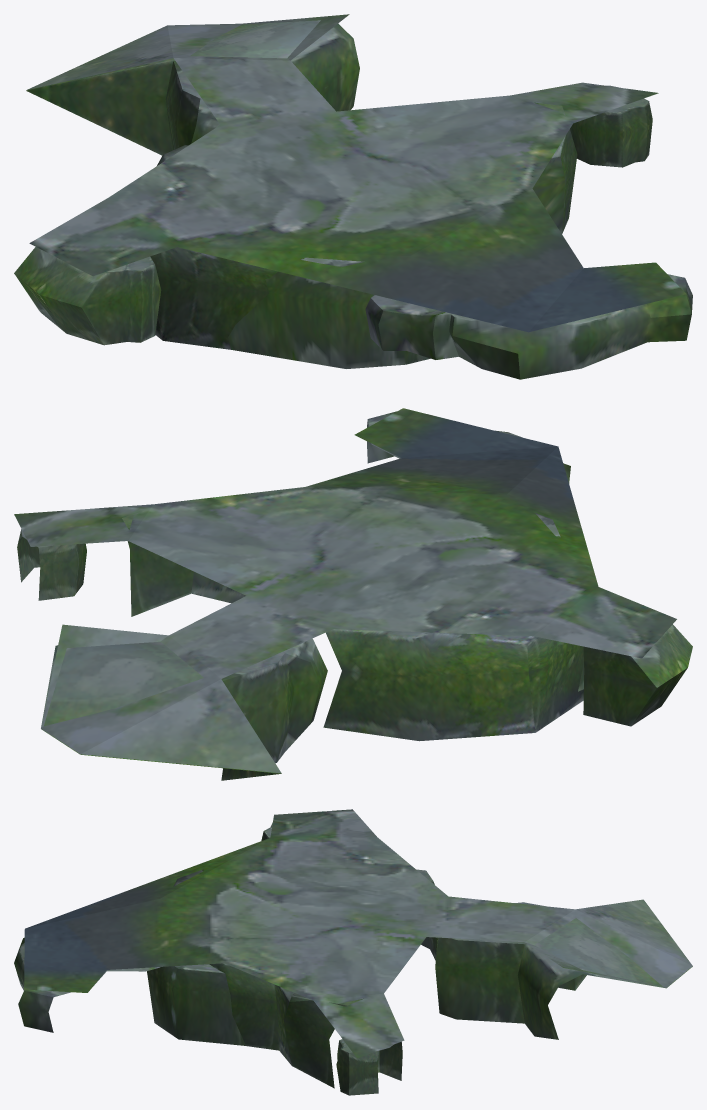
File: SC001Jshanshi_35.FBX
3 views of the same model, one above another, from view 1: azimuth 30°, elevation 25°; view 2: azimuth 150°, elevation 25°; view 3: azimuth 270°, elevation 25° (orthographic). The views are drawn at different scales.
Visible parts, largest first — view 1: SC001Jshanshi_35_lujing, SC001Jshanshi_35; view 2: SC001Jshanshi_35_lujing, SC001Jshanshi_35; view 3: SC001Jshanshi_35_lujing, SC001Jshanshi_35.
Part boxes in pixels (bbox=[...]): SC001Jshanshi_35_lujing: bbox=[27, 14, 686, 332]; SC001Jshanshi_35: bbox=[14, 20, 692, 379]; SC001Jshanshi_35_lujing: bbox=[14, 408, 676, 773]; SC001Jshanshi_35: bbox=[17, 411, 692, 780]; SC001Jshanshi_35_lujing: bbox=[24, 809, 692, 1058]; SC001Jshanshi_35: bbox=[14, 822, 692, 1095].
Bounding box in the file's own units: 35.49 × 6.07 × 40.58.
